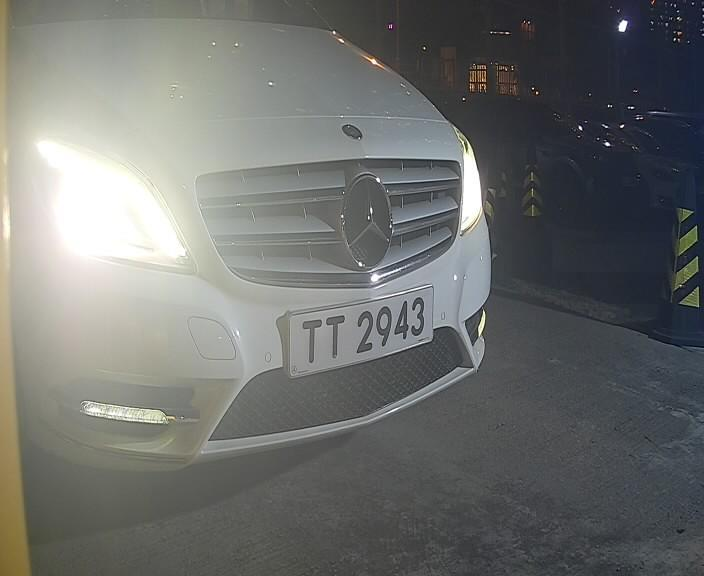License Plate: (274, 281, 437, 381)
